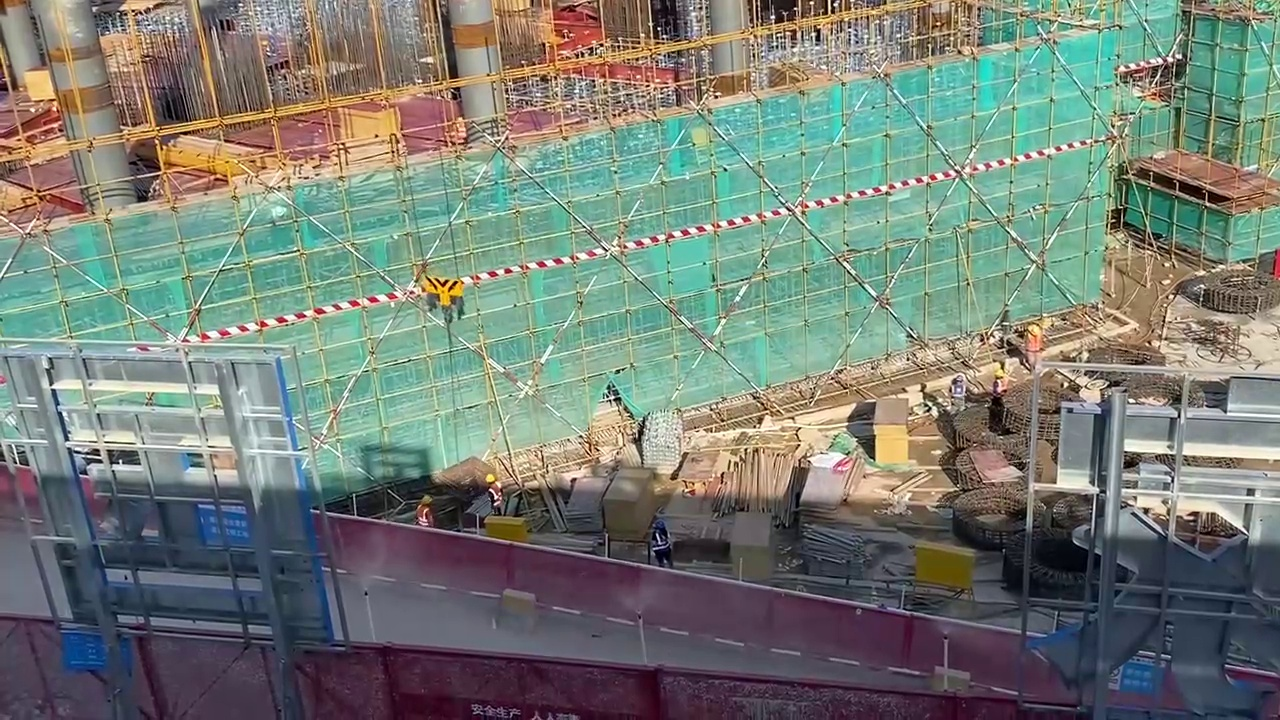board: (867, 393, 913, 467)
fence: (2, 615, 969, 720)
hook: (426, 277, 468, 307)
person: (649, 520, 675, 568), (481, 474, 505, 517), (413, 490, 438, 528)
wood: (728, 446, 798, 529)
